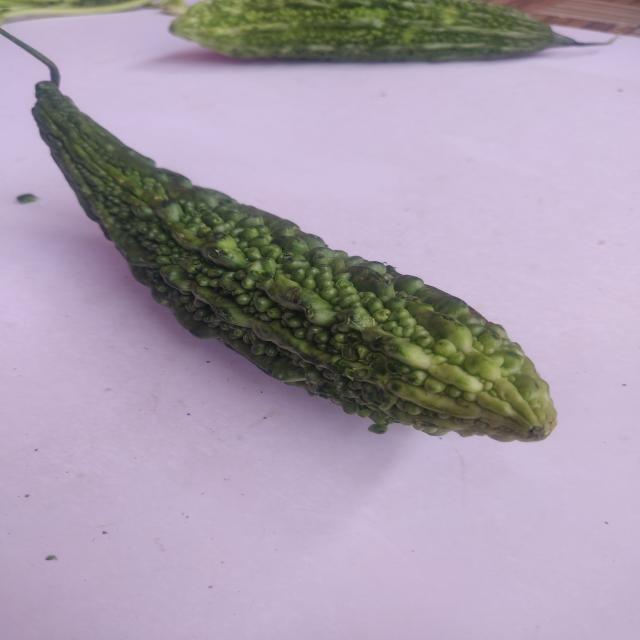Bitter Gourd: (13, 76, 576, 453)
